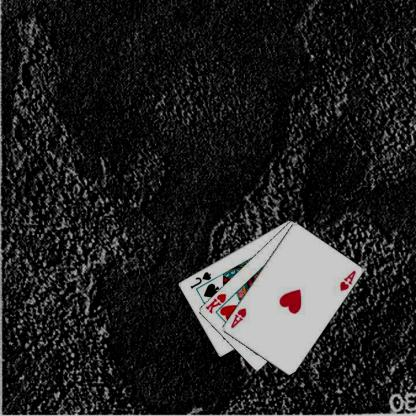AH: (229, 305, 249, 329), (339, 268, 358, 292)
JS: (189, 270, 214, 290)
KH: (204, 292, 229, 314)
